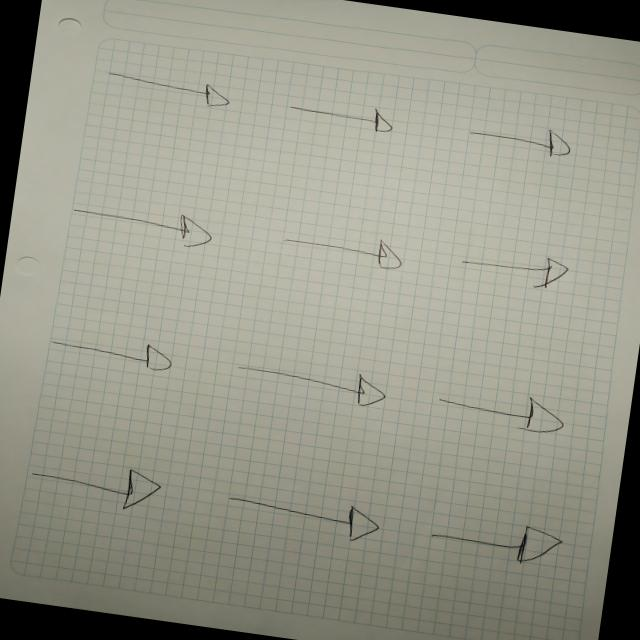arrow_line_right: (210, 478, 398, 556), (220, 346, 395, 422), (417, 502, 578, 578), (57, 188, 222, 260), (418, 378, 584, 448), (259, 217, 428, 284), (17, 446, 172, 518), (36, 316, 188, 384), (452, 107, 594, 173), (94, 61, 246, 118), (448, 238, 584, 298), (274, 89, 414, 144)
